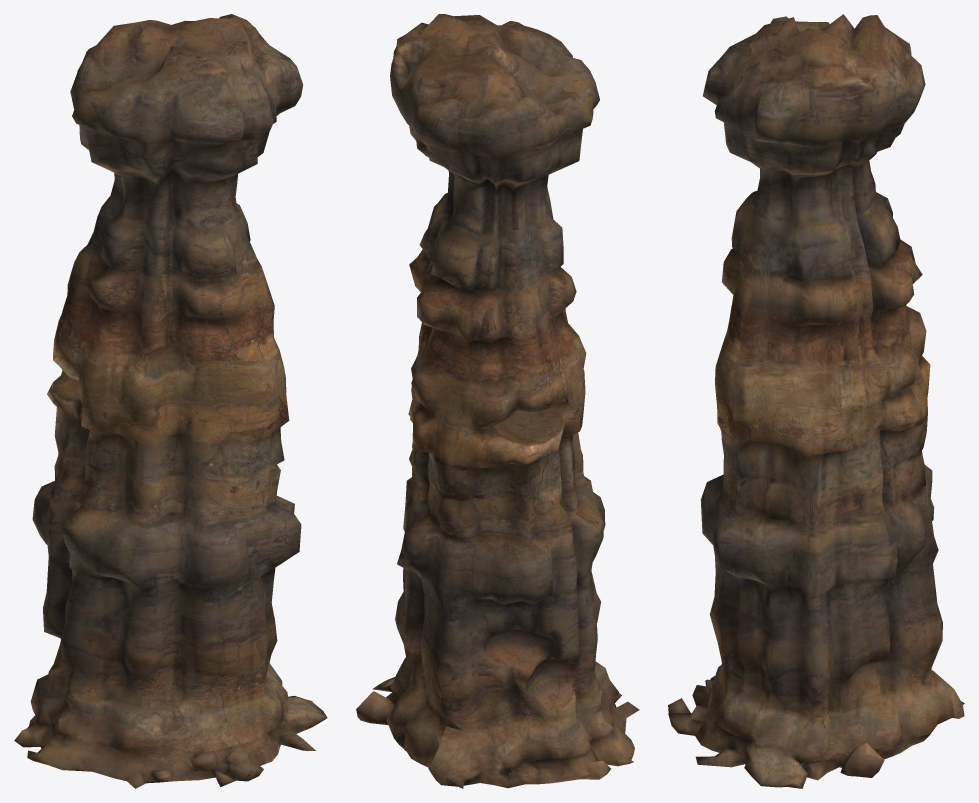
The model's file is b15_rock_spire_c.glb.
The picture shows the model from 3 angles, left to right: view 1: azimuth 30°, elevation 25°; view 2: azimuth 150°, elevation 25°; view 3: azimuth 270°, elevation 25°; orthographic projection.
Visible parts, largest first — view 1: b15_rock_spire_c; view 2: b15_rock_spire_c; view 3: b15_rock_spire_c.
Boxes of the visible parts, x1,y1,x2,y2 form: b15_rock_spire_c: (14,14,327,788); b15_rock_spire_c: (356,14,639,788); b15_rock_spire_c: (668,14,964,788).
Size of the model in its own units: 1 by 2.44 by 0.9307.
1 material, 1 textured.
